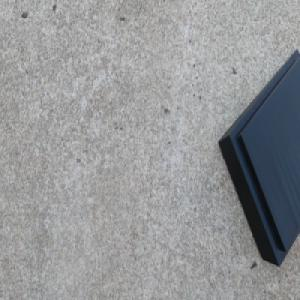PlasticPart: (217, 47, 300, 268)
